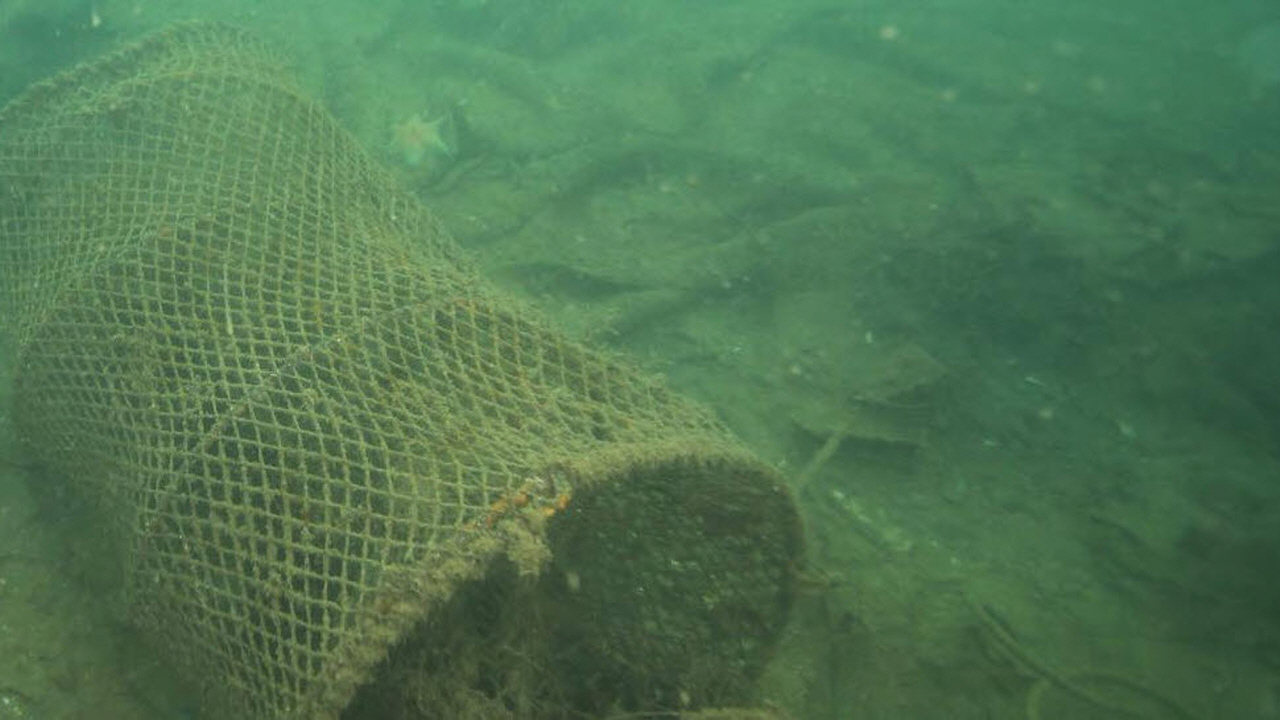spring fish trap: (0, 16, 810, 720)
